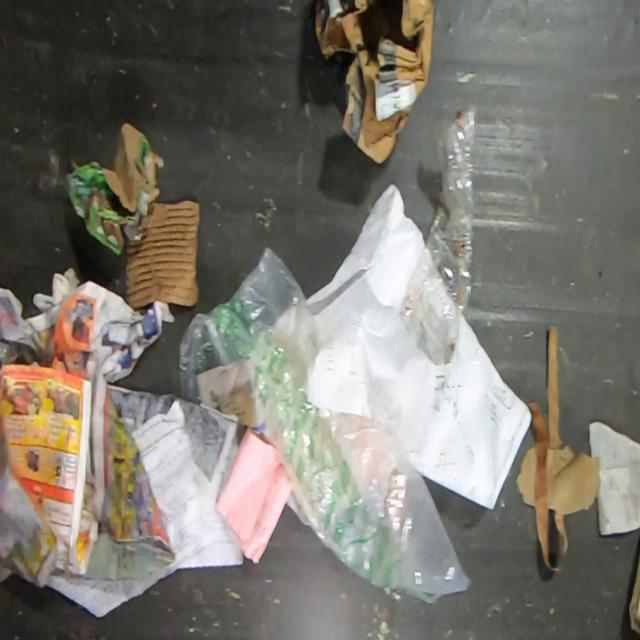cardboard: (314, 0, 436, 165), (66, 122, 164, 257), (124, 198, 201, 311), (547, 446, 601, 516), (516, 441, 537, 507), (628, 538, 640, 640)
soft_plastic: (178, 247, 474, 606), (402, 106, 478, 364)
